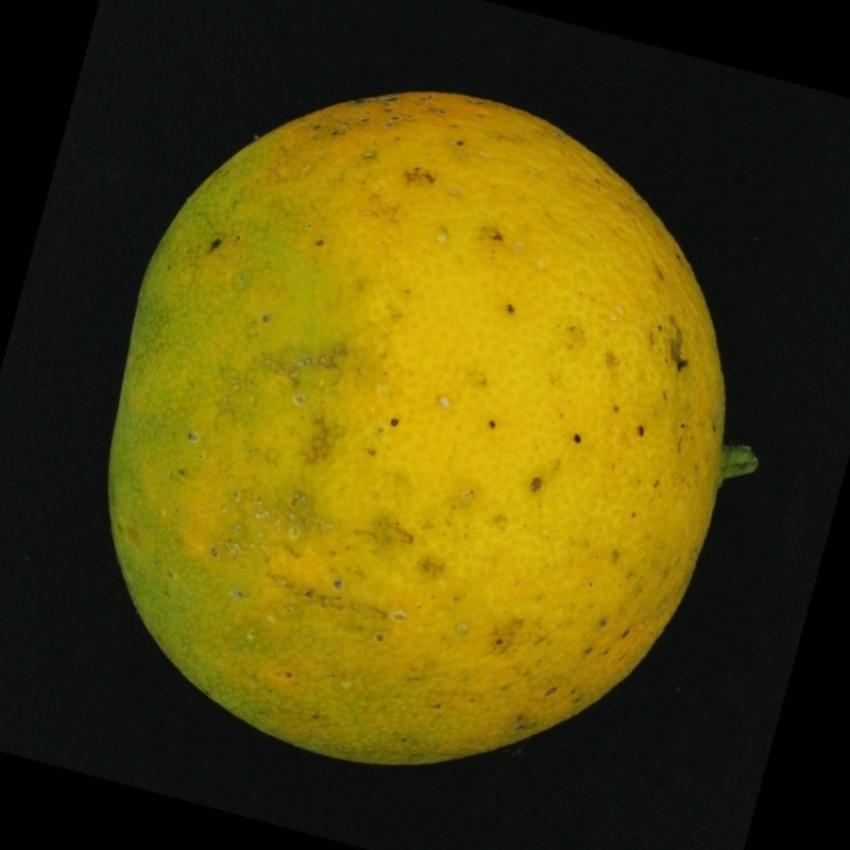Mal estado: (82, 65, 766, 777)
